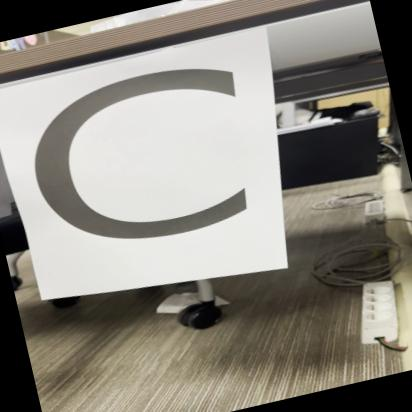seat: (10, 37, 288, 310)
